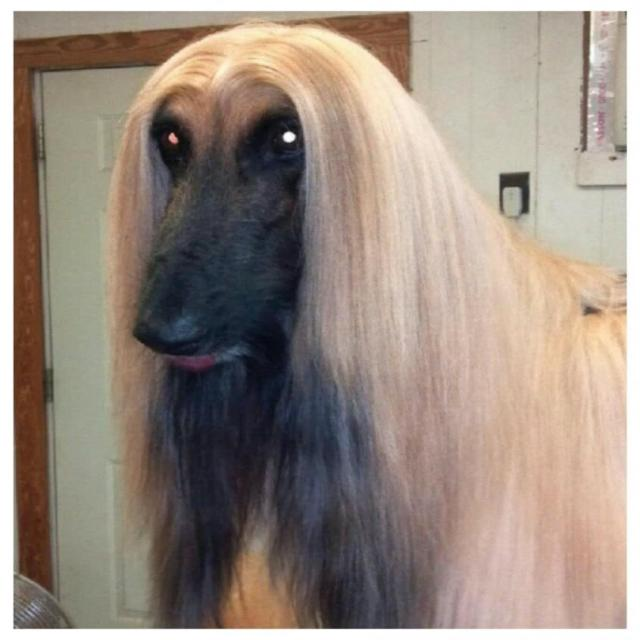dog: (68, 16, 494, 436)
